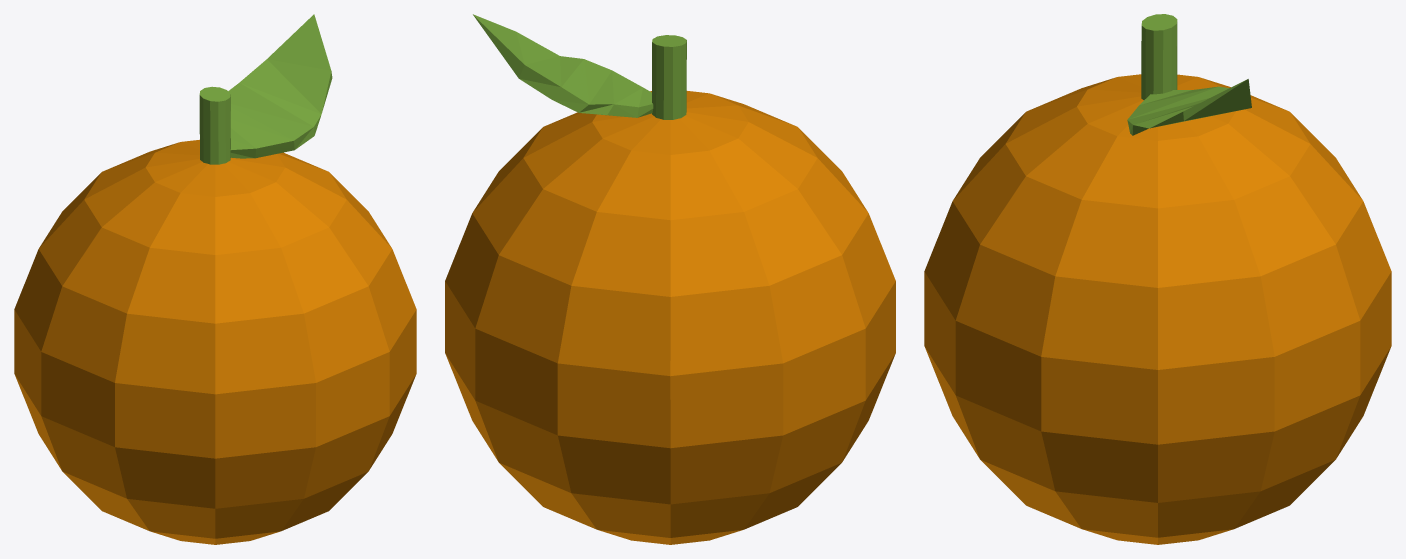
3 views of the same model, side by side, from view 1: azimuth 30°, elevation 25°; view 2: azimuth 150°, elevation 25°; view 3: azimuth 270°, elevation 25° (orthographic). The views are drawn at different scales.
Parts seen in each view (by area): view 1: node_MeshObject-251111424-PolyPaper21; view 2: node_MeshObject-251111424-PolyPaper21; view 3: node_MeshObject-251111424-PolyPaper21.
Boxes of the visible parts, x1=… form: node_MeshObject-251111424-PolyPaper21: x1=14, y1=14, x2=416, y2=544; node_MeshObject-251111424-PolyPaper21: x1=445, y1=14, x2=895, y2=544; node_MeshObject-251111424-PolyPaper21: x1=924, y1=14, x2=1391, y2=544.
Size of the model in its own units: 0.1379 by 0.1703 by 0.1379.
